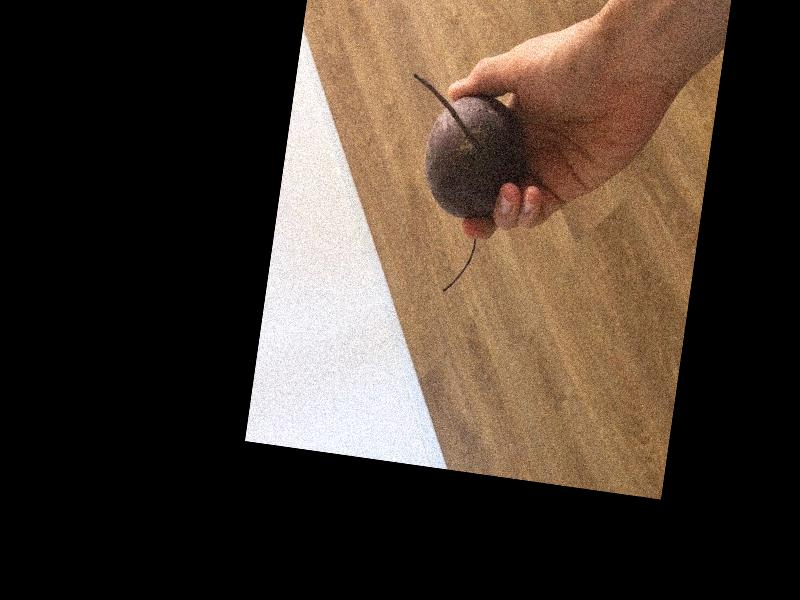Beet: (384, 74, 533, 301)
